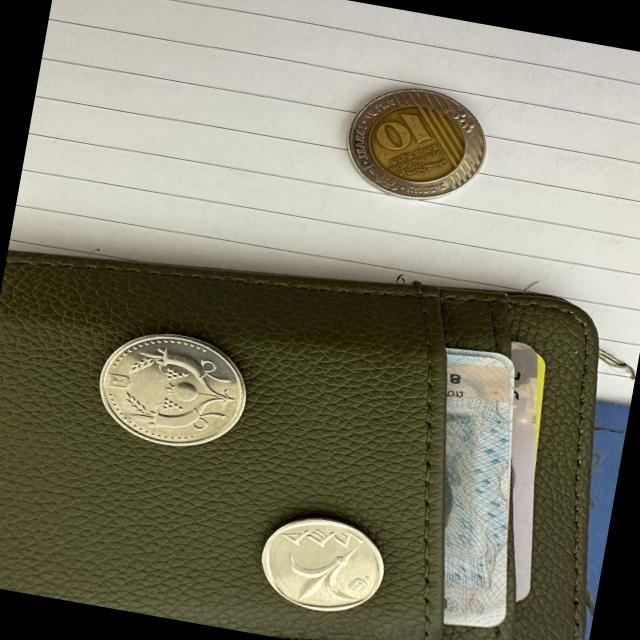1-shekel: (253, 502, 392, 621)
10-shekel: (334, 71, 500, 214)
2-shekel: (90, 318, 258, 461)
